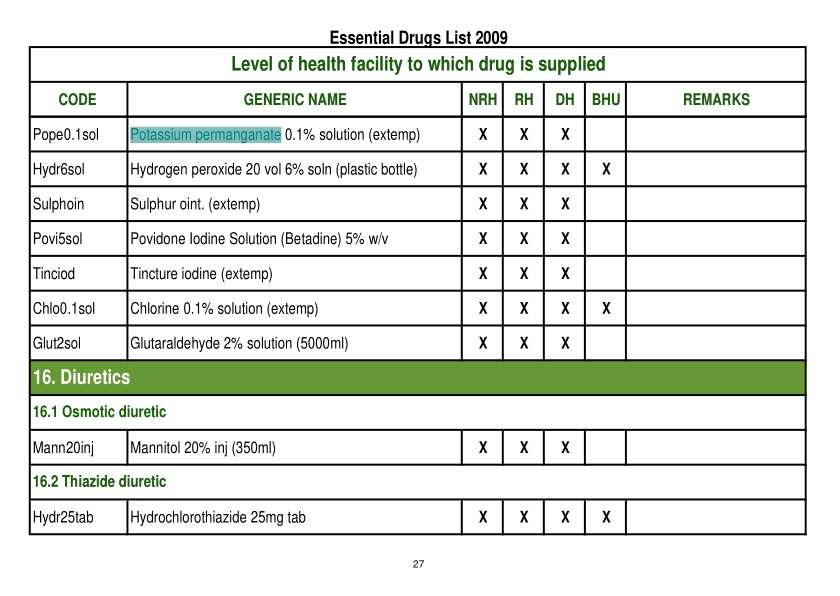merged_cells: (27, 45, 808, 536)
